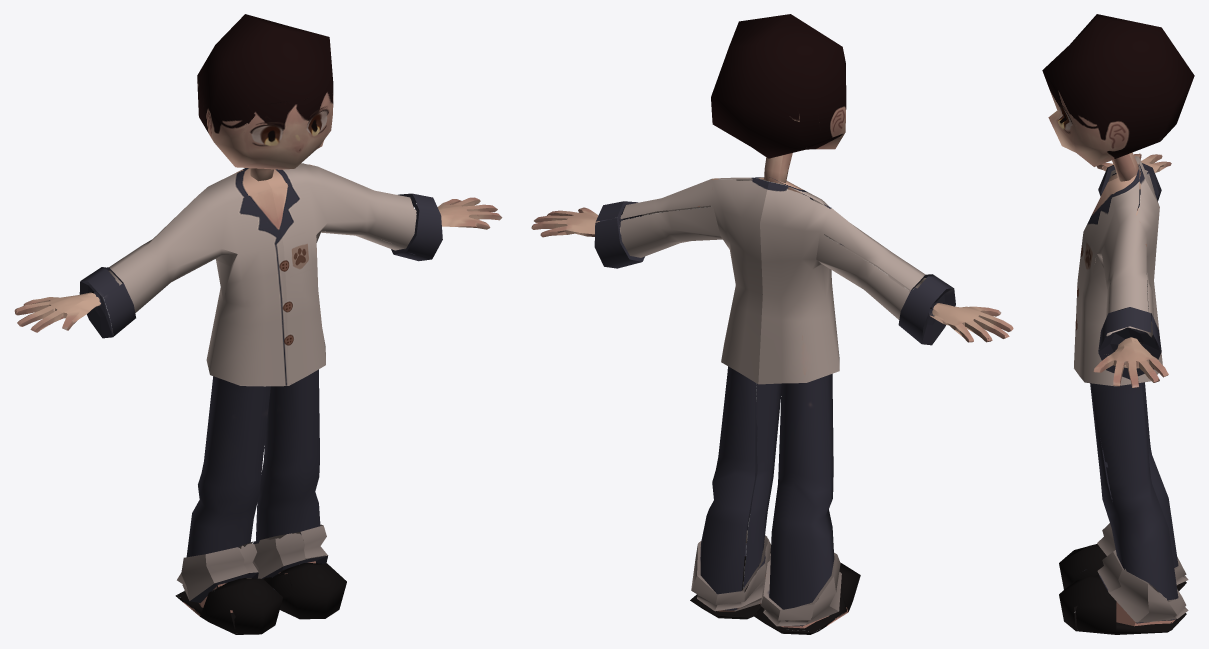
Rendered from ProtaCorregido.fbx.
The picture shows the model from 3 angles, left to right: view 1: azimuth 30°, elevation 25°; view 2: azimuth 150°, elevation 25°; view 3: azimuth 270°, elevation 25°; orthographic projection.
Visible parts, largest first — view 1: Prota; view 2: Prota; view 3: Prota.
Boxes of the visible parts, x1,y1,x2,y2 form: Prota: (14, 14, 502, 634); Prota: (531, 14, 1013, 634); Prota: (1042, 14, 1194, 634).
Size of the model in its own units: 6.24 by 7.31 by 1.72.
